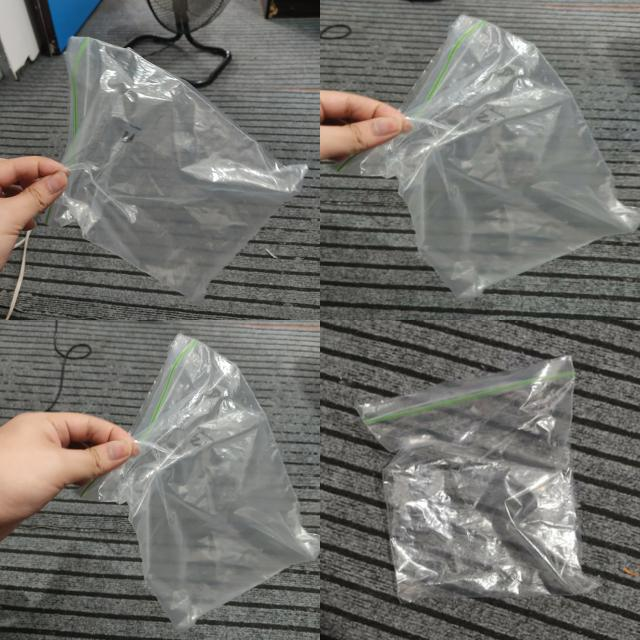Single-layer Plastic: (340, 15, 640, 298), (78, 334, 319, 631), (46, 38, 308, 301), (359, 356, 598, 601)
